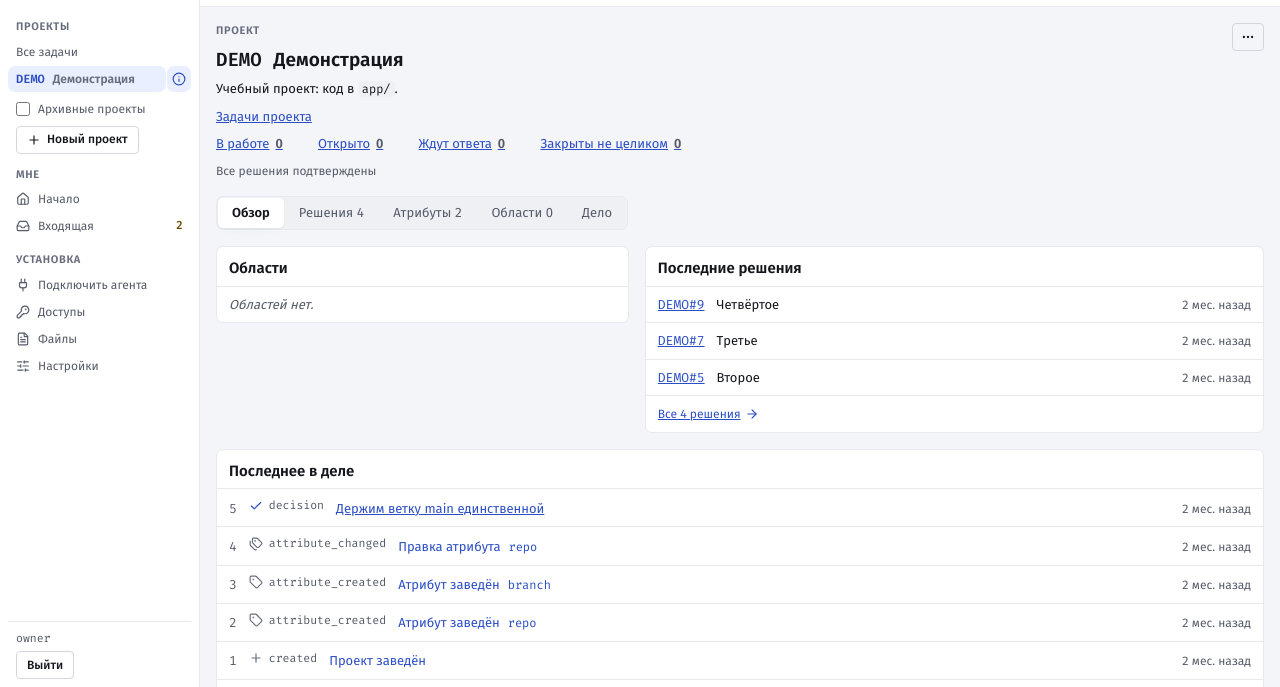
Test: вкладка «Обзор» › три последних действующих решения по номеру, сверху новое; «Все N решений» — на вкладку
expect the list item "DEMO#9 Четвёртое 2 мес. назад" is shown: met, box [646,286,1263,323]
Click the link "Все 4 решения": (708, 414) [658,405,759,423]
(page scrolled)
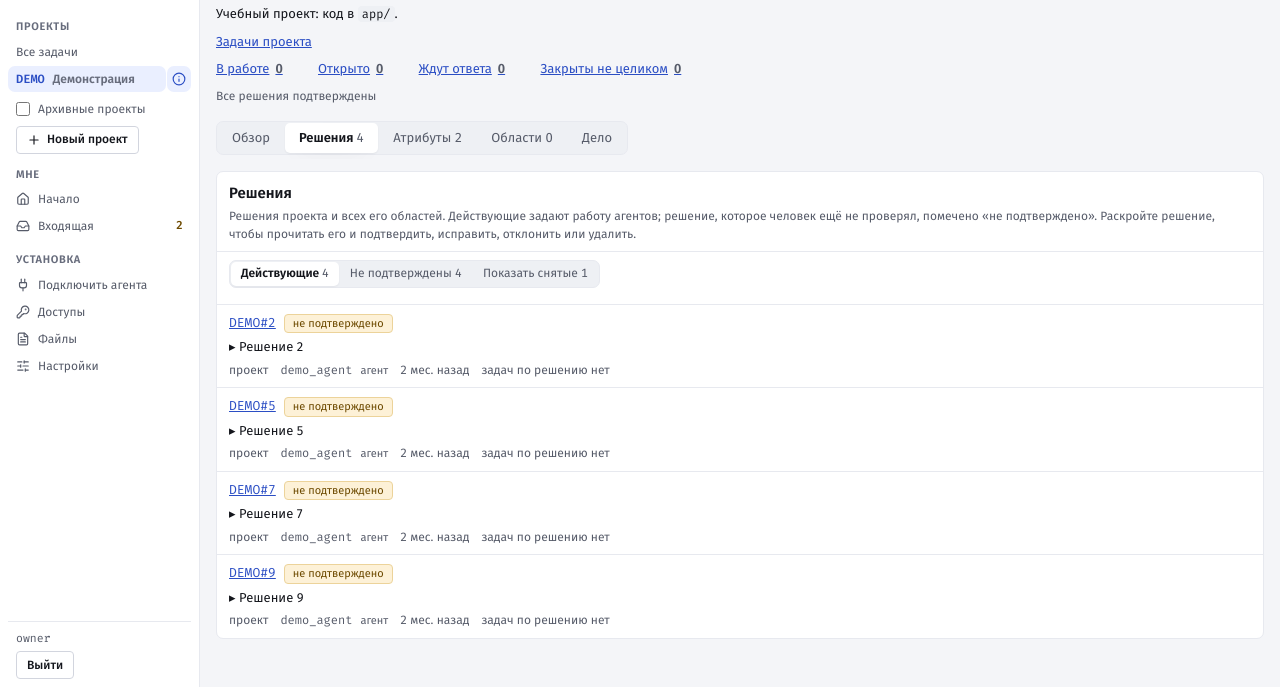
expect the element "Решения" is shown: met, box [216,171,1264,639]
